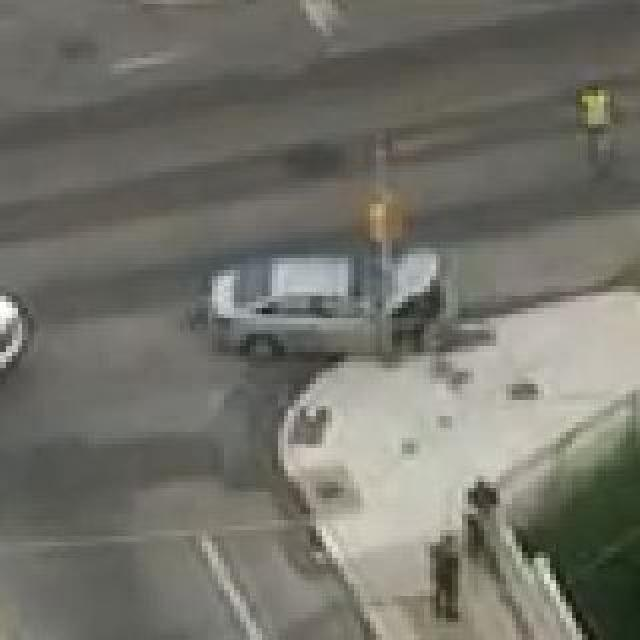traffic_incident: (192, 242, 496, 368)
